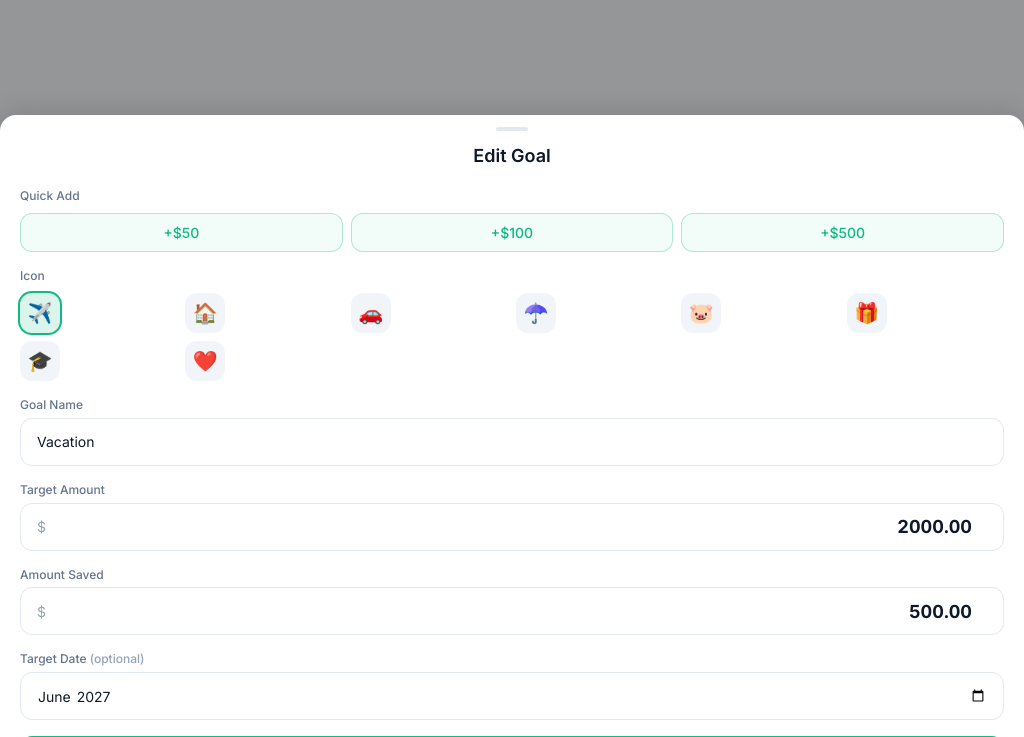
Test: EditGoalSheet › increments current amount by 50 when +$50 clicked
Click the button with test id "quick-add-50" at (181, 233), box x1=20 y1=213 x2=343 y2=252
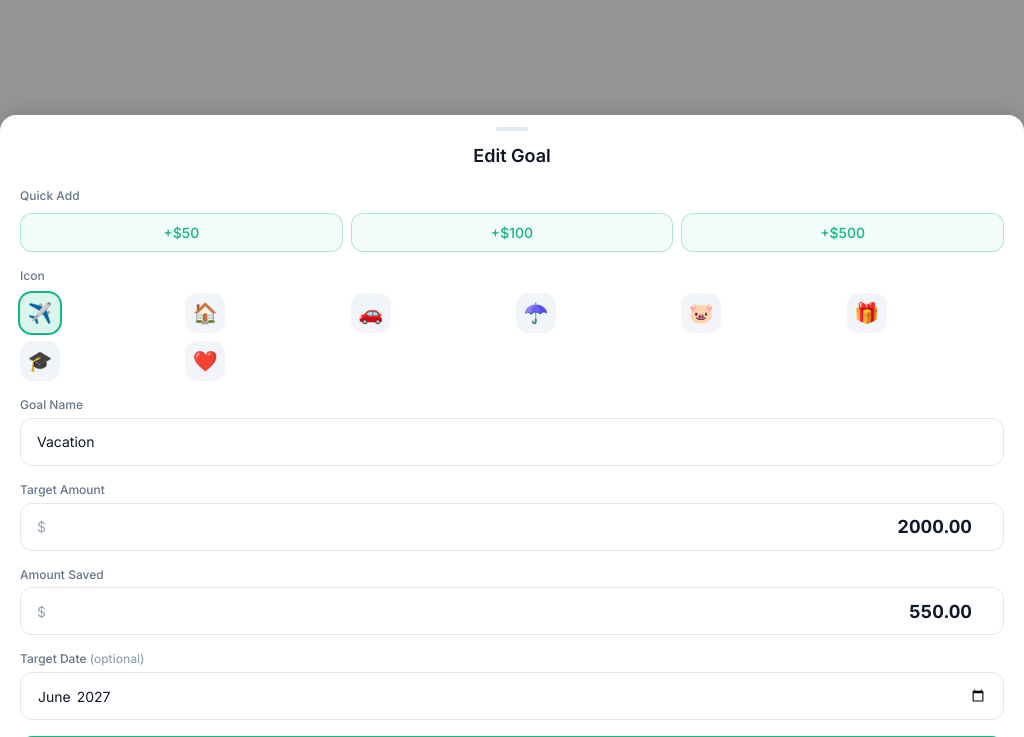
Expected: the number field with test id "current-amount-input" holds "550.00", x1=50 y1=588 x2=1003 y2=634
